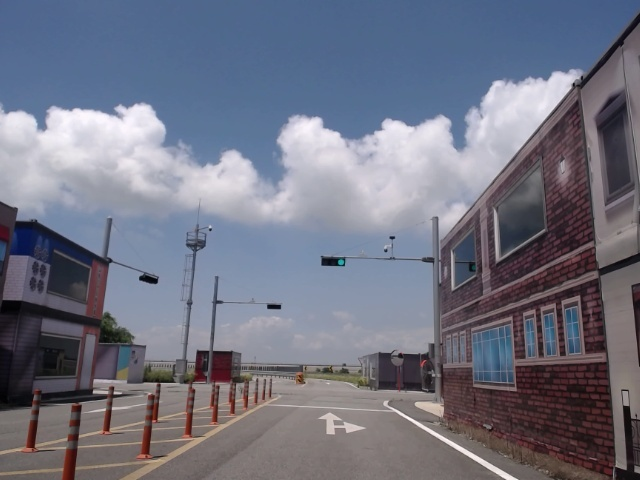green_3: (320, 257, 344, 265)
